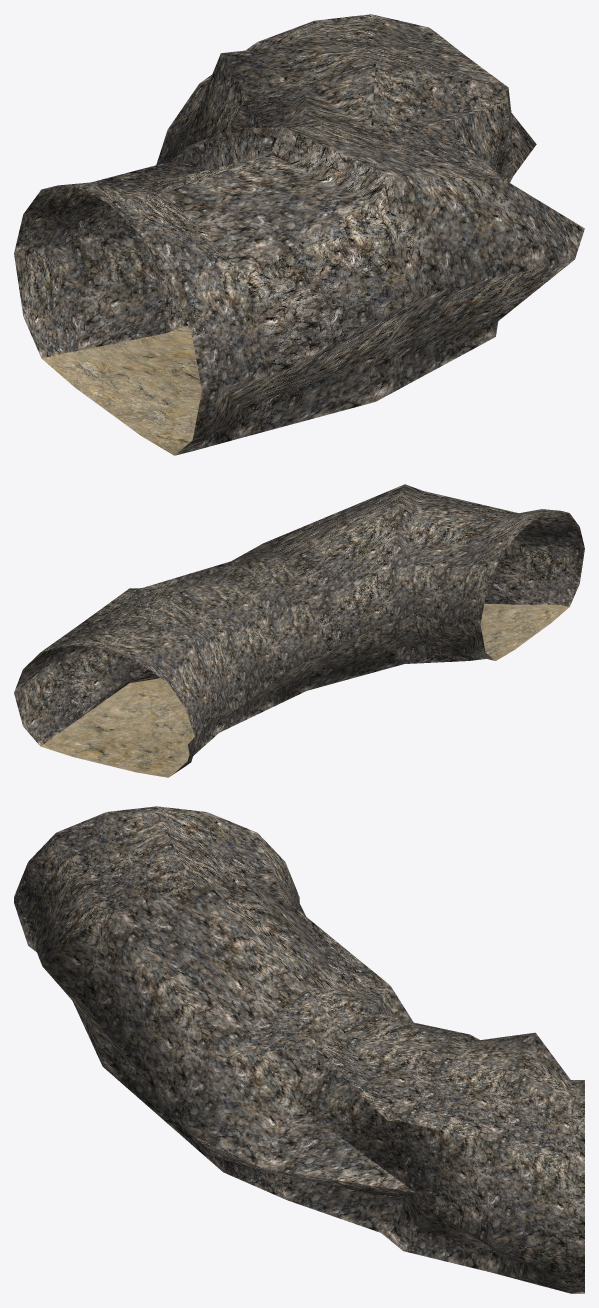
The model's file is pir_m_are_cav_curveWideRampRight.fbx.
The picture shows the model from 3 angles, top to bottom: view 1: azimuth 30°, elevation 25°; view 2: azimuth 150°, elevation 25°; view 3: azimuth 270°, elevation 25°; orthographic projection. The views are drawn at different scales.
Visible parts, largest first — view 1: curveWide_wall, curveWide_floor; view 2: curveWide_wall, curveWide_floor; view 3: curveWide_wall.
Part boxes in pixels (box(x1,y1,x2,y2)): curveWide_wall: box(14, 14, 584, 455); curveWide_floor: box(42, 325, 201, 455); curveWide_wall: box(14, 484, 584, 775); curveWide_floor: box(41, 603, 569, 777); curveWide_wall: box(14, 806, 584, 1293).
Size of the model in its own units: 20000 by 10344 by 20000.
Materials: 2 (2 with a texture image).
